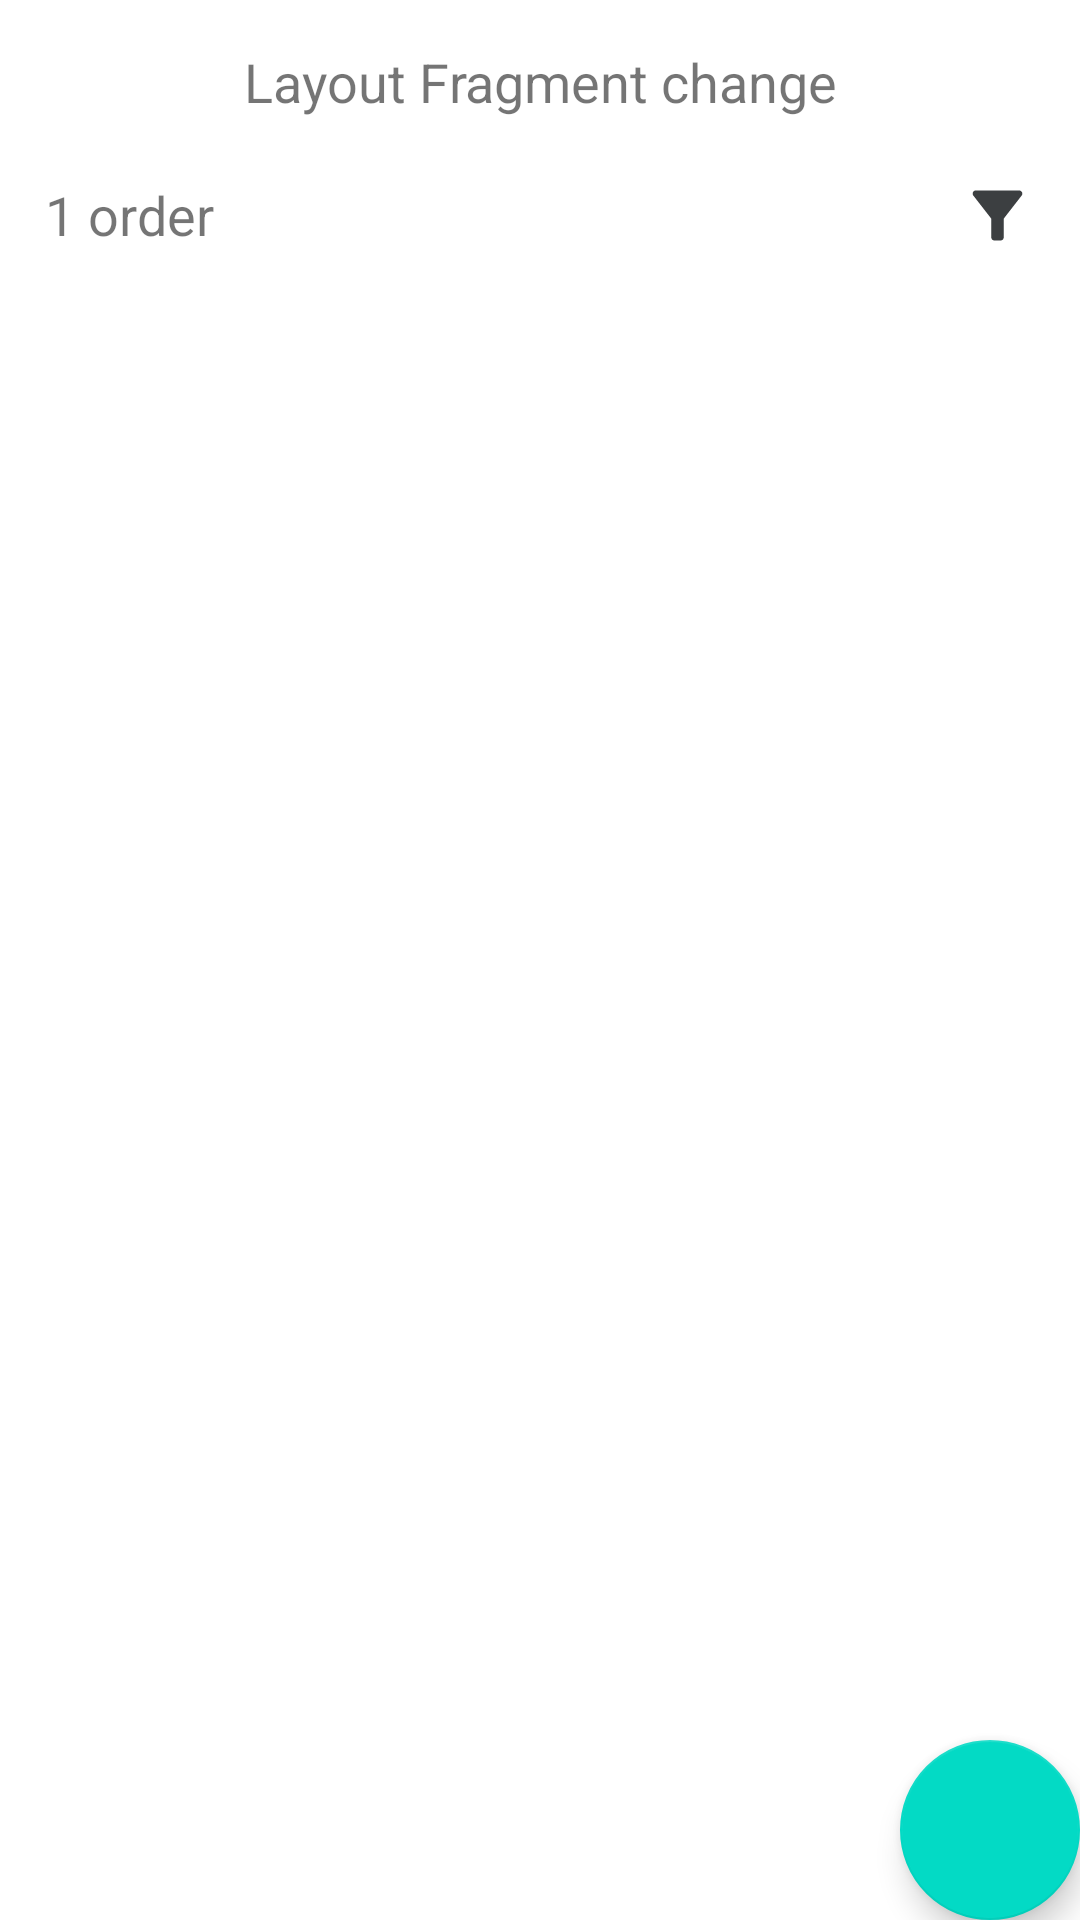

Icon bounding boxes for this 1080×1920 phone screenshot, format (x1, y1, x2, y2):
filter: (972, 190, 1023, 241)
